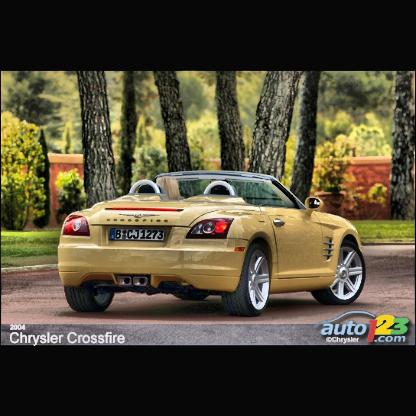Chrysler Crossfire Convertible 2008: (60, 169, 364, 312)
